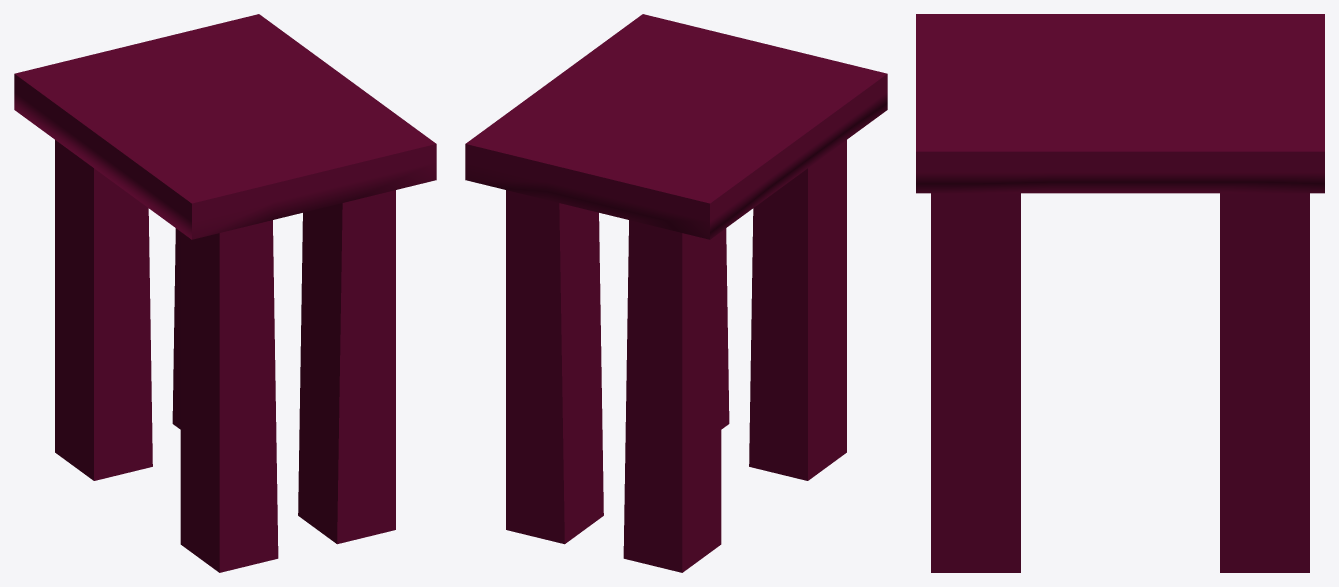
Rendered from table.fbx.
The picture shows the model from 3 angles, left to right: view 1: azimuth 30°, elevation 25°; view 2: azimuth 150°, elevation 25°; view 3: azimuth 270°, elevation 25°; orthographic projection. The views are drawn at different scales.
Parts seen in each view (by area): view 1: TABLE; view 2: TABLE; view 3: TABLE.
Boxes of the visible parts, x1,y1,x2,y2 form: TABLE: [14, 14, 436, 572]; TABLE: [465, 14, 887, 572]; TABLE: [916, 14, 1324, 572].
Bounding box in the file's own units: 8.44 × 12.61 × 10.61.
